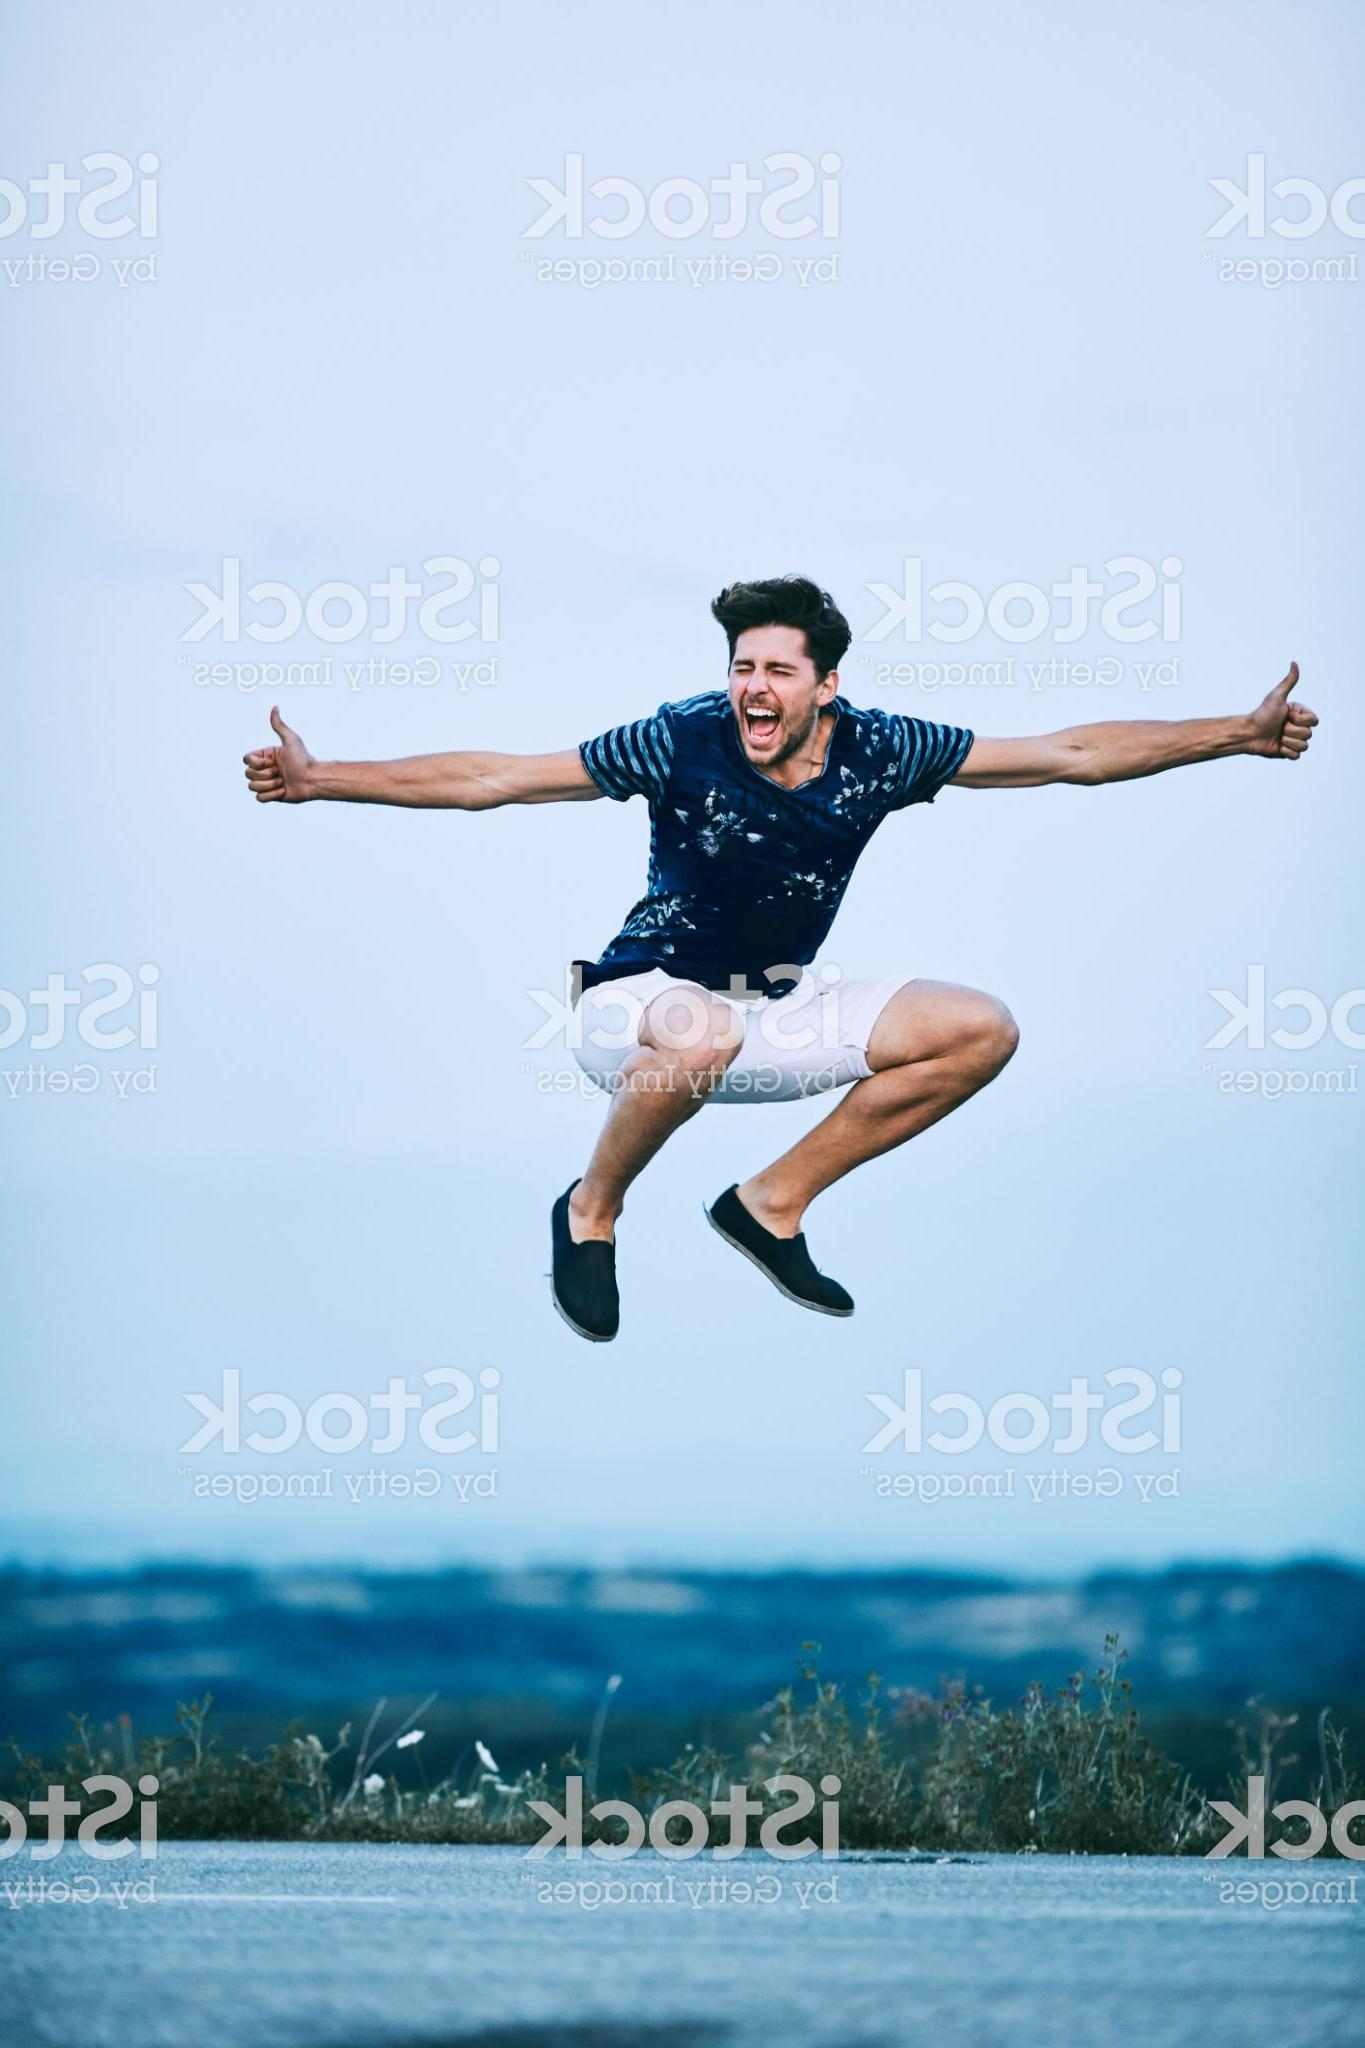thumbsup: (242, 700, 309, 805), (1258, 658, 1321, 763)
